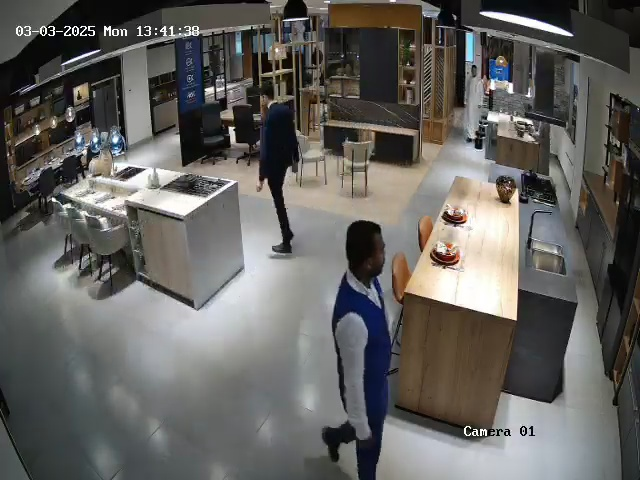employee: (321, 220, 392, 480), (256, 83, 300, 254)
male: (465, 60, 485, 152), (534, 113, 556, 185)
